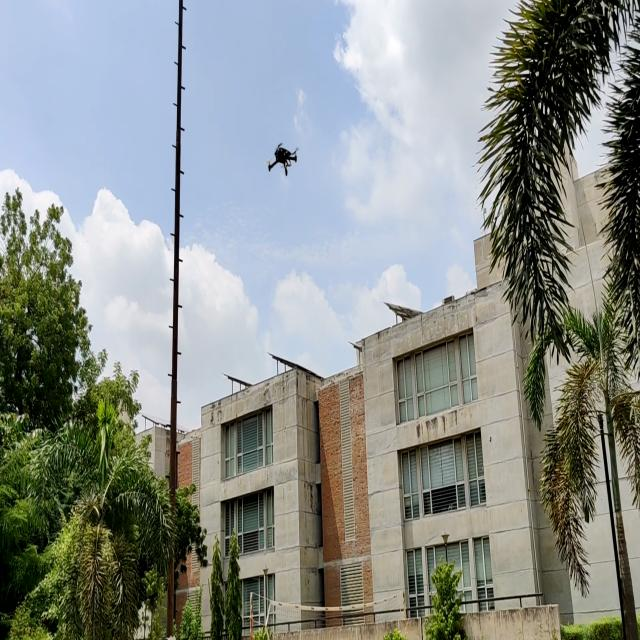drone: (262, 136, 302, 182)
